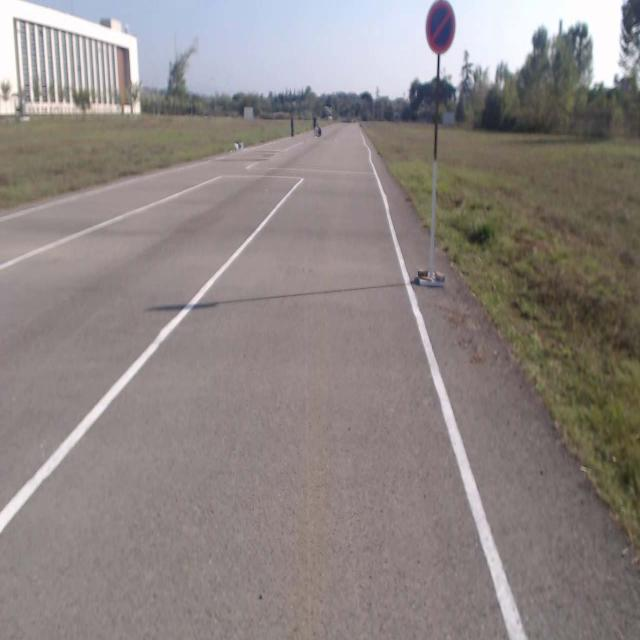parkyasak: (425, 1, 455, 52)
